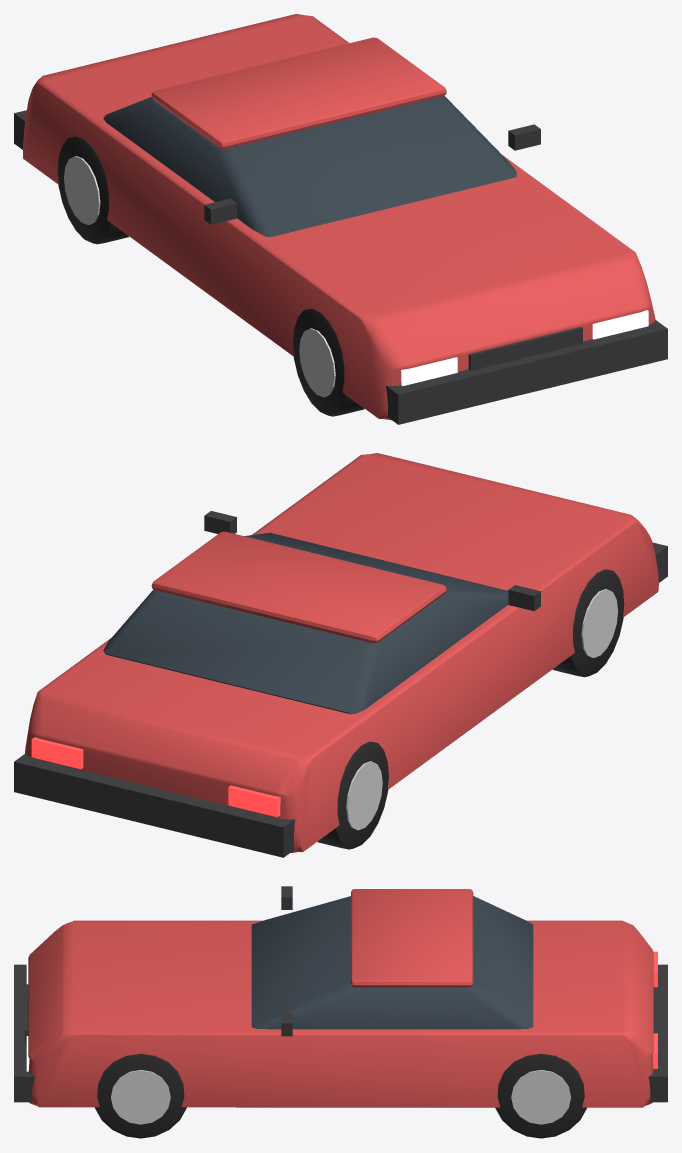
The model's file is car_sports.glb.
3 renders of one model, top to bottom at view 1: azimuth 30°, elevation 25°; view 2: azimuth 150°, elevation 25°; view 3: azimuth 270°, elevation 25°, orthographic. The views are drawn at different scales.
Visible parts, largest first — view 1: body, wheel_fr, wheel_rr; view 2: body, wheel_fr, wheel_rr; view 3: body, wheel_fl, wheel_rl.
Part boxes in pixels (bbox=[...]): body: bbox=[14, 14, 667, 424]; wheel_fr: bbox=[293, 308, 364, 416]; wheel_rr: bbox=[57, 136, 128, 244]; body: bbox=[14, 453, 667, 857]; wheel_fr: bbox=[553, 569, 624, 677]; wheel_rr: bbox=[317, 741, 388, 849]; body: bbox=[14, 886, 667, 1107]; wheel_fl: bbox=[94, 1053, 186, 1138]; wheel_rl: bbox=[495, 1053, 586, 1138].
Bounding box in the file's own units: 2.28 × 1.15 × 4.6.
